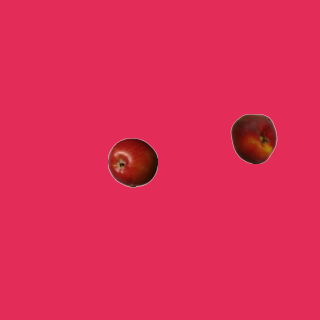Apple Braeburn: (107, 137, 157, 187)
Nectarine Flat: (228, 113, 278, 163)
